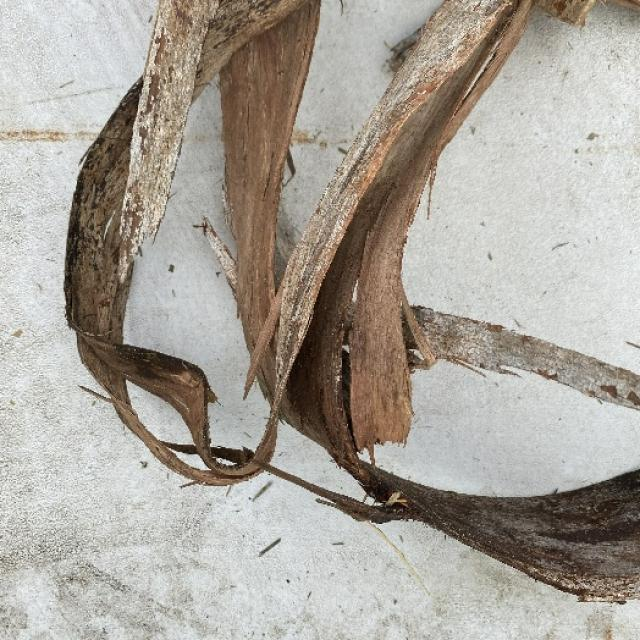organik: (101, 0, 640, 622)
